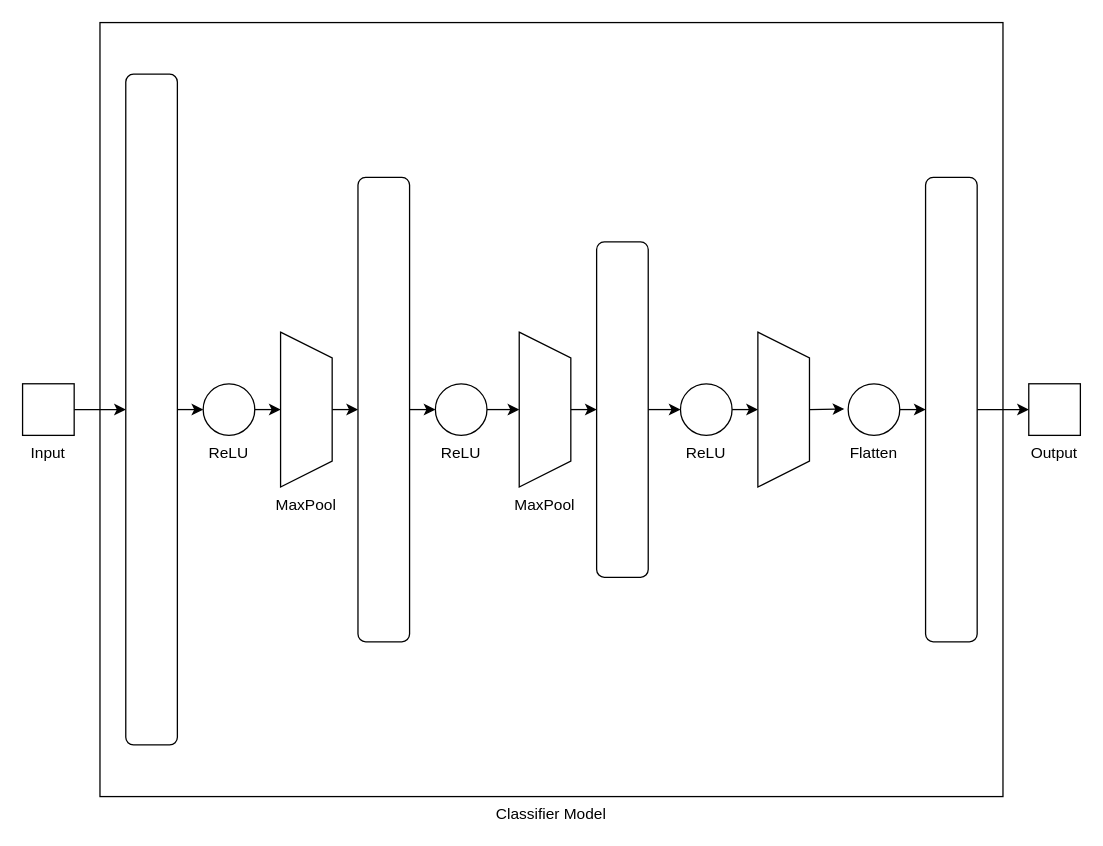
Image size: 1103x846. Some labels were removed from this diagram. Here are the shapes that lost their labels. From the top down, the centre of each, then its label:
At (x=150, y=409): "Conv1".
At (x=383, y=409): "Conv2".
At (x=621, y=409): "Conv3".
At (x=783, y=409): "AveragePool".
At (x=950, y=409): "MLPNet".
